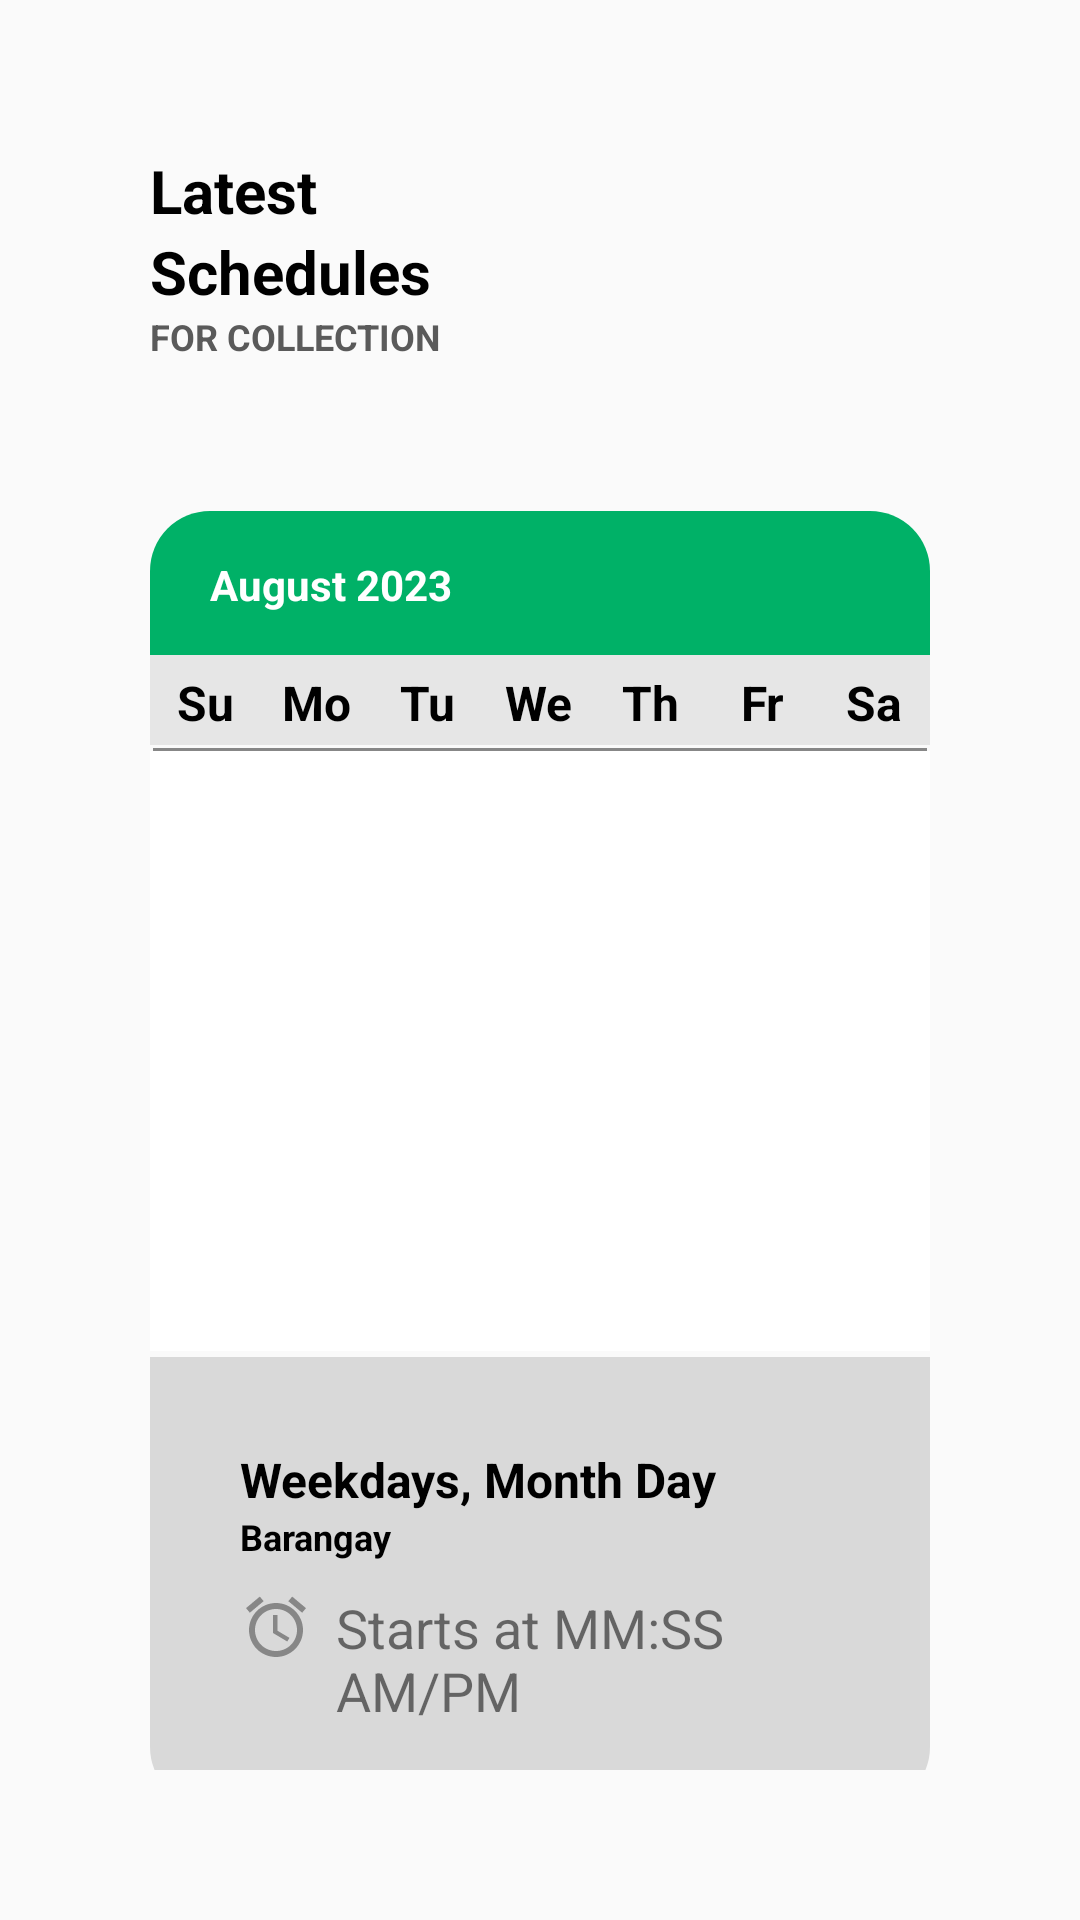

Named icons in this screenshot (1080 x 1920) and their bounding boxes, (x1, y1, x2, y2):
alarm: (246, 1597, 306, 1657)
